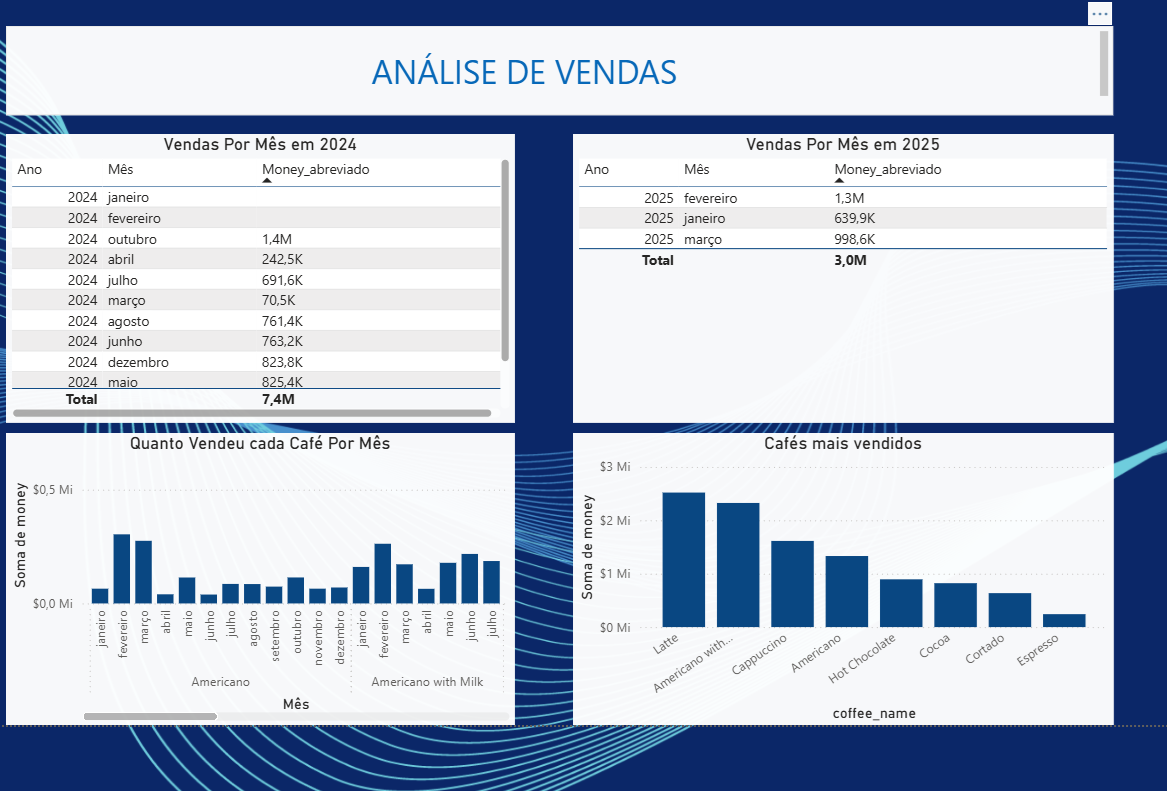

The dashboard page shown, as its layout file describes it:
{"tool":"powerbi","page":{"name":"Página 1","canvas":[1280,720],"ordinal":0},"visuals":[{"type":"actionButton","box":[0,0,100,40],"z":0},{"type":"columnChart","title":"Cafés mais vendidos","fields":{"Category":["index_1 (2).coffee_name"],"Y":["Sum(index_1 (2).money)"]},"box":[684.5,435.7,525.6,284.8],"z":1000},{"type":"textbox","box":[133.3,39.9,1076.7,86.6],"z":2000},{"type":"columnChart","title":"Quanto Vendeu cada Café Por Mês","fields":{"Category":["index_1 (2).coffee_name","index_1 (2).date.Variation.Hierarquia de datas.Mês"],"Y":["Sum(index_1 (2).money)"]},"box":[132.9,435.7,494.6,284.8],"z":3000},{"type":"tableEx","title":"Vendas Por Mês em 2024","fields":{"Values":["index_1 (2).date.Variation.Hierarquia de datas.Ano","index_1 (2).date.Variation.Hierarquia de datas.Mês","index_1 (2).Money_abreviado"]},"box":[132.9,144.9,494.6,280.8],"z":4000},{"type":"tableEx","title":"Vendas Por Mês em 2025","fields":{"Values":["index_1 (2).date.Variation.Hierarquia de datas.Ano","index_1 (2).date.Variation.Hierarquia de datas.Mês","index_1 (2).Money_abreviado"]},"box":[684.5,144.9,525.6,280.8],"z":5000}]}

Visuals, with their boxes on the page's 1280x720 design canvas (x1, y1, x2, y2). These are canvas units, not pixel positions in the 1167x791 screenshot, which may show the page scaled, cropped or inside an application window:
actionButton: 0,0,100,40
"Cafés mais vendidos" columnChart: 684,436,1210,720
textbox: 133,40,1210,126
"Quanto Vendeu cada Café Por Mês" columnChart: 133,436,628,720
"Vendas Por Mês em 2024" tableEx: 133,145,628,426
"Vendas Por Mês em 2025" tableEx: 684,145,1210,426
